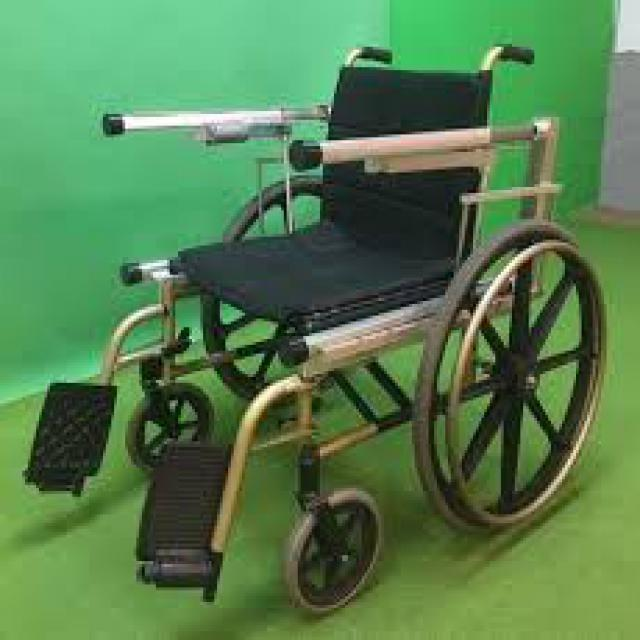wheelchair: (0, 23, 610, 637)
